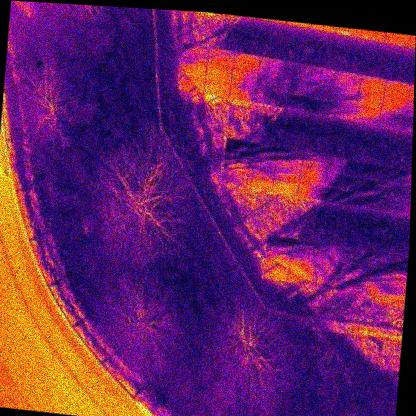Normal: (205, 63, 232, 83), (203, 78, 230, 98), (233, 51, 259, 71), (381, 95, 408, 114), (383, 80, 410, 98), (360, 75, 385, 93), (272, 179, 298, 195), (383, 32, 410, 46)
Shadow: (258, 54, 285, 76), (247, 158, 276, 178), (264, 235, 293, 255), (179, 58, 208, 78), (314, 243, 344, 262), (251, 143, 279, 163), (374, 181, 402, 201), (370, 196, 398, 216), (281, 76, 309, 96), (324, 171, 353, 190), (328, 156, 355, 176), (284, 60, 311, 80), (230, 67, 257, 87), (302, 152, 330, 171), (321, 186, 350, 204), (177, 75, 206, 93), (225, 138, 252, 157), (274, 164, 301, 183), (333, 69, 360, 88), (256, 72, 283, 91), (357, 90, 384, 109), (377, 166, 405, 184), (338, 262, 366, 280), (286, 267, 314, 285), (280, 93, 308, 111), (276, 148, 303, 166), (353, 162, 380, 180), (349, 178, 376, 196), (221, 170, 248, 188), (207, 48, 234, 66), (229, 84, 256, 102), (330, 101, 358, 118), (354, 106, 382, 123), (245, 175, 273, 192), (263, 252, 291, 269), (260, 265, 288, 282), (254, 89, 282, 106), (312, 271, 338, 289), (309, 66, 335, 84), (306, 97, 332, 115), (290, 241, 319, 257), (299, 168, 326, 185), (296, 183, 323, 200), (289, 254, 316, 271), (182, 43, 209, 60), (308, 82, 335, 99), (224, 153, 248, 172), (347, 191, 372, 209), (313, 259, 341, 275), (335, 277, 363, 293), (342, 249, 368, 266), (333, 87, 359, 104), (379, 111, 406, 127), (366, 254, 393, 269), (364, 266, 391, 281), (360, 279, 388, 293)
